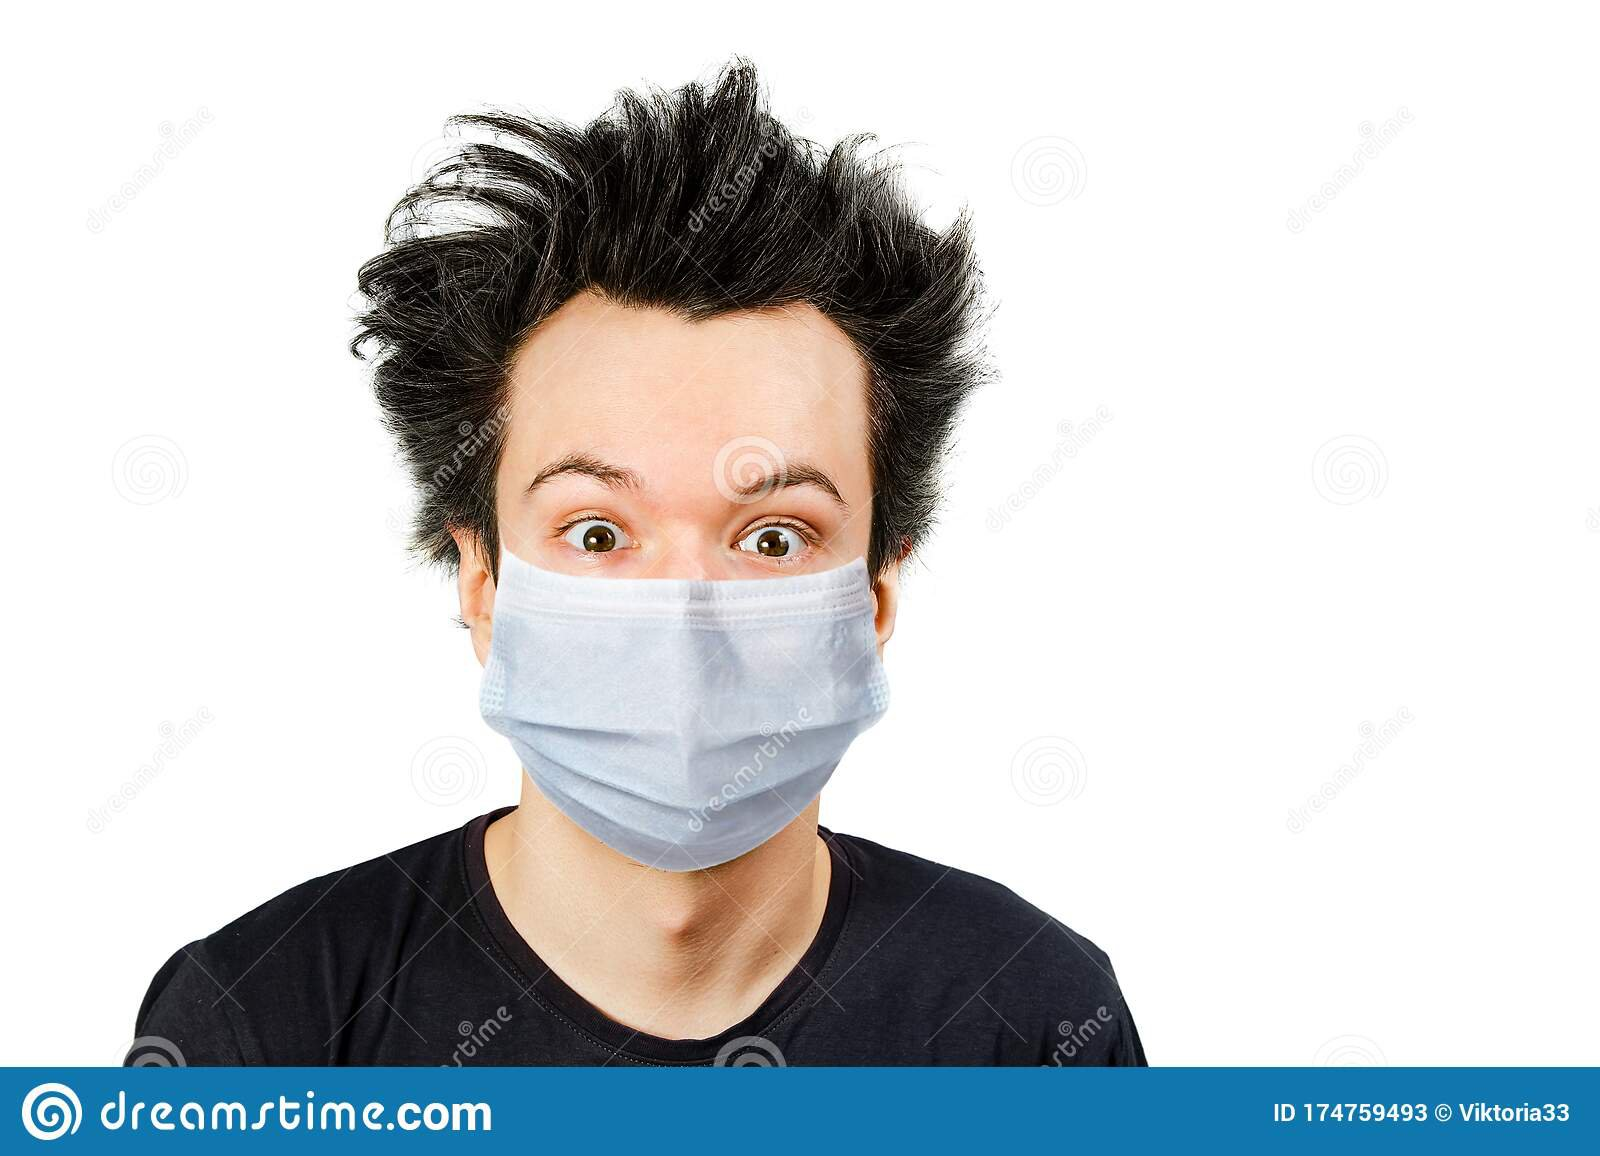mask: (341, 81, 1066, 875)
